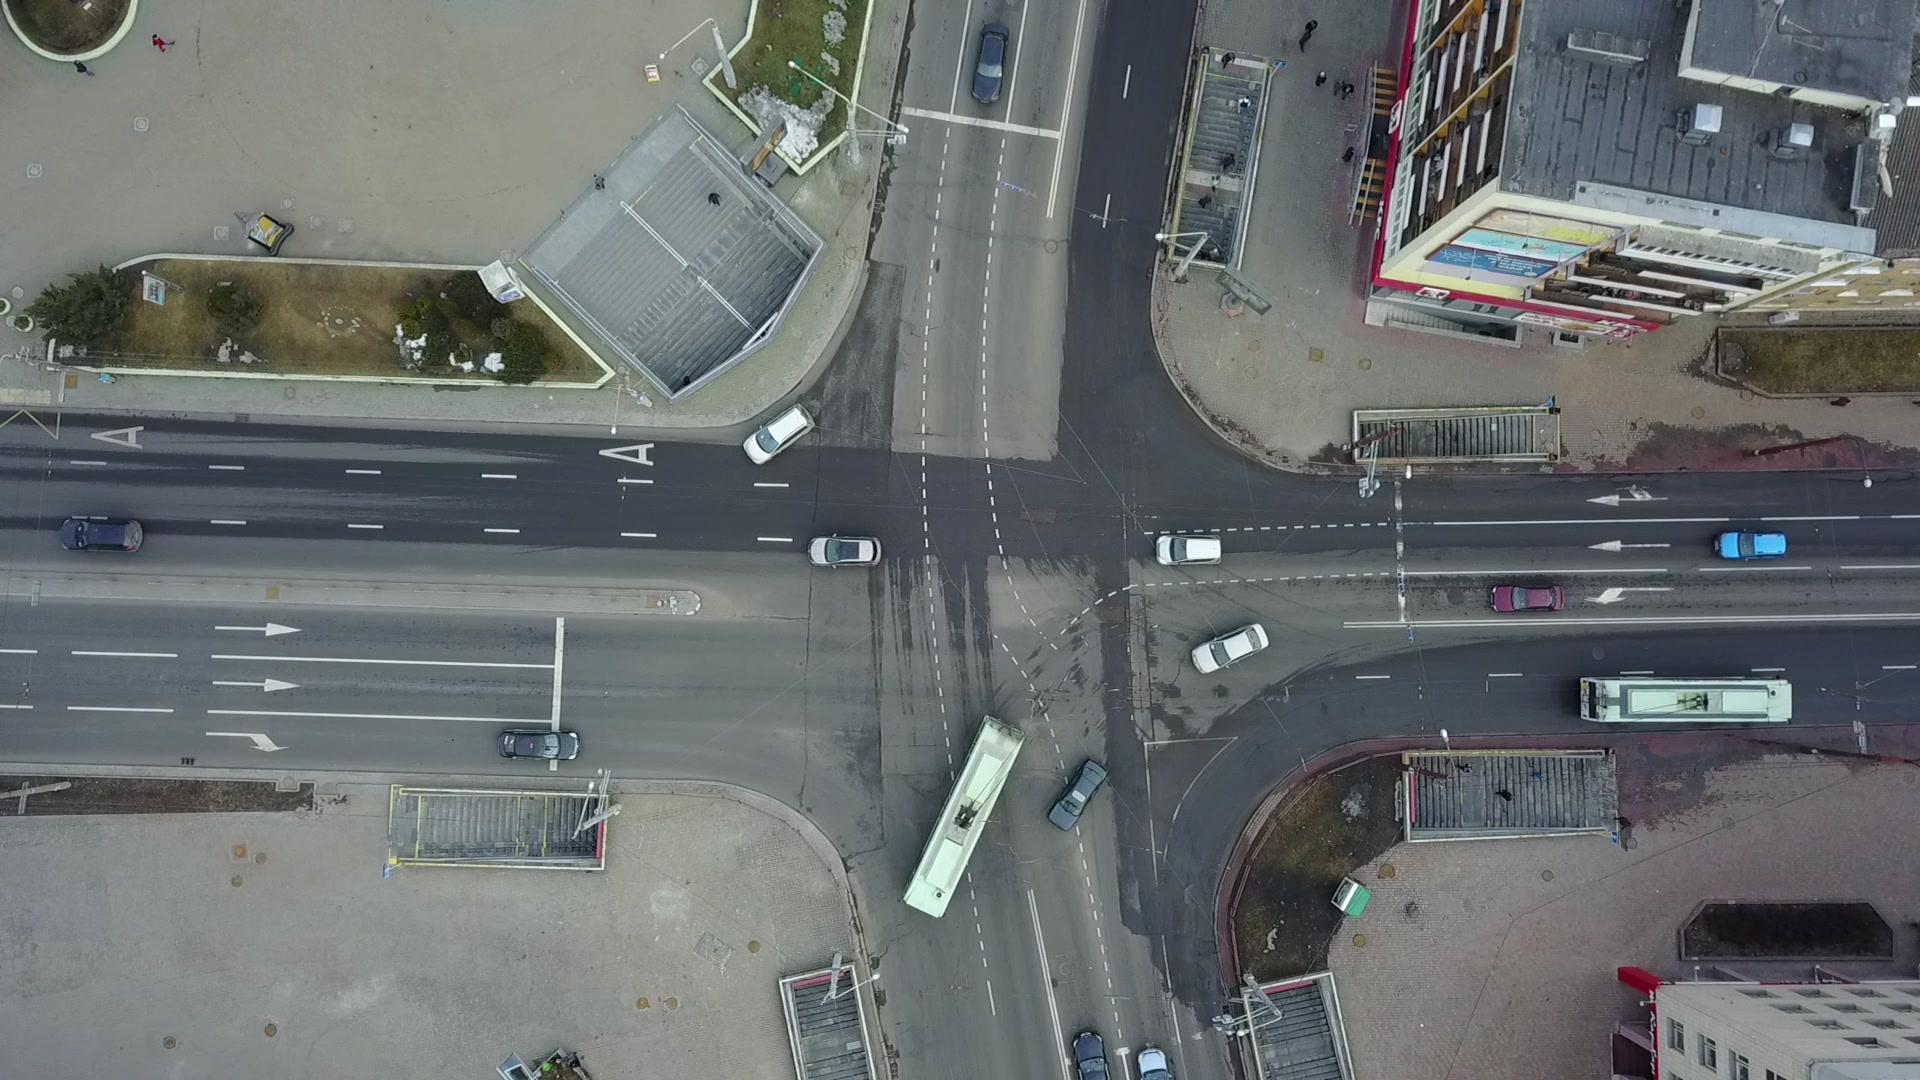car: (1044, 758, 1108, 832), (741, 402, 815, 465), (1189, 621, 1269, 675), (971, 21, 1011, 104), (58, 518, 145, 554), (495, 727, 582, 761), (806, 531, 882, 568), (1714, 526, 1789, 563), (1489, 583, 1565, 615), (1155, 533, 1222, 564)
